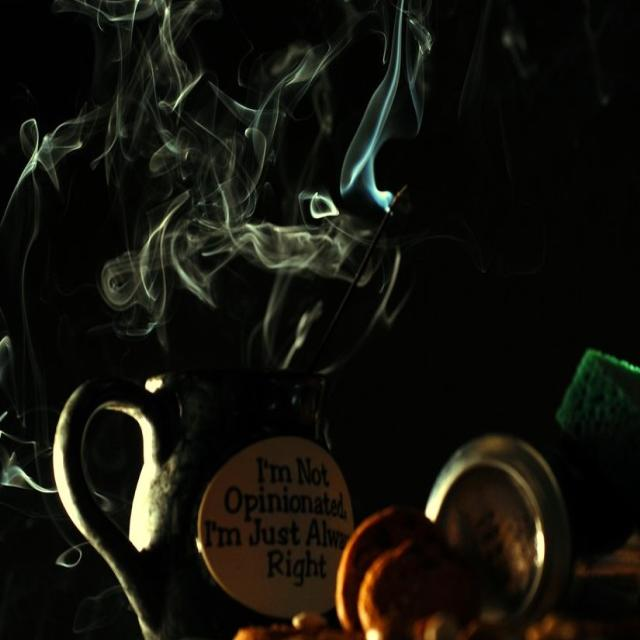Cup: (58, 328, 377, 640)
